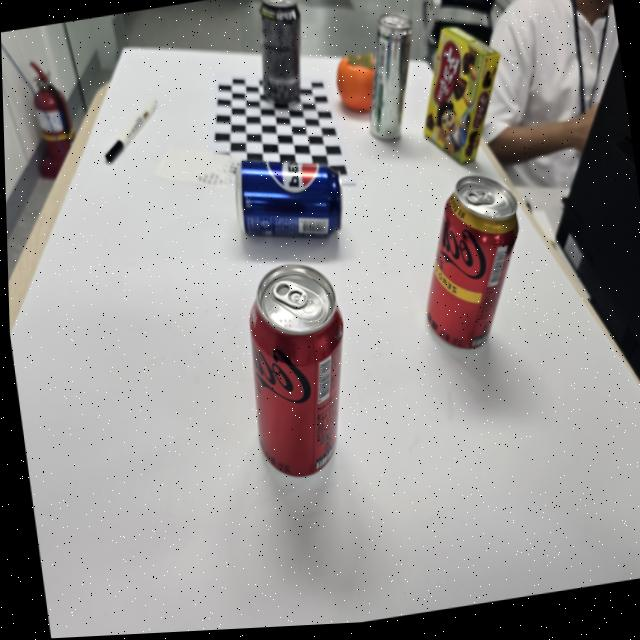can_coke_decaf: (425, 175, 519, 346)
can_coke_zero: (248, 265, 344, 475)
can_pepsi: (235, 160, 343, 237)
